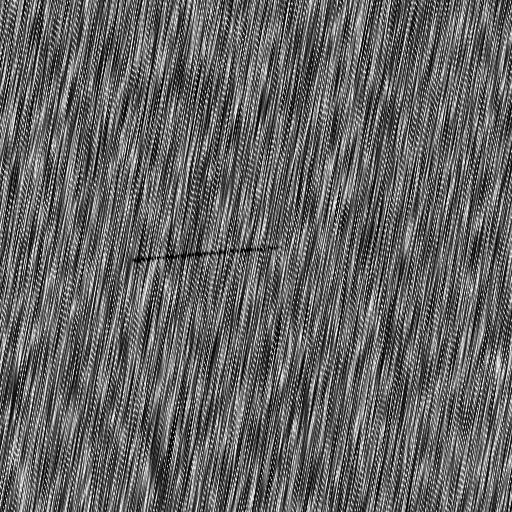DefectTypeC: (132, 248, 278, 260)
